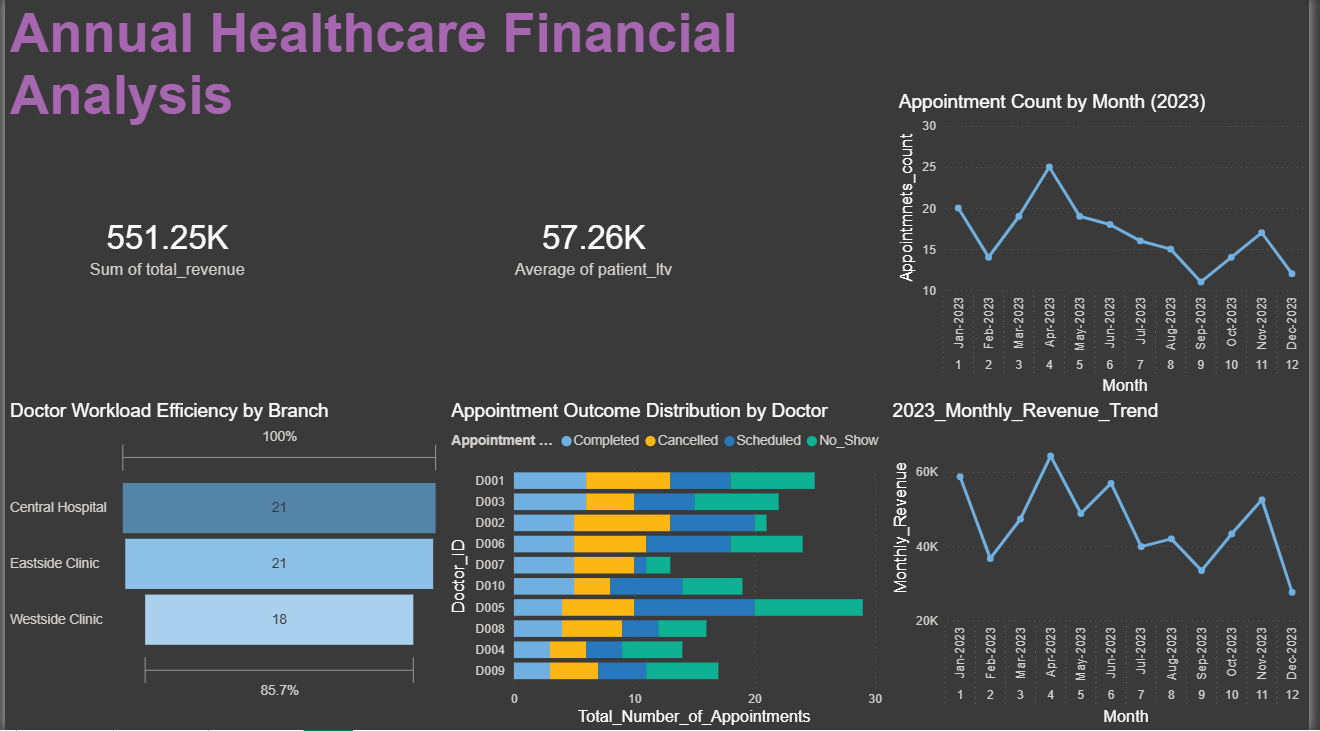

Layout of this report page (visuals, bound fields, positions):
{"tool":"powerbi","page":{"name":"Page 2","canvas":[1280,720],"ordinal":0},"visuals":[{"type":"barChart","title":"Appointment Outcome Distribution by Doctor","fields":{"Y":["Sum(Query13.completed_count)","Sum(Query13.cancelled_count)","Sum(Query13.scheduled_count)","Sum(Query13.no_show_count)"],"Category":["Doctor Cancellation & No-Show Analysis.doctor_id"]},"box":[432.9,395.6,432.9,324.7],"z":0},{"type":"funnel","title":"Doctor Workload Efficiency by Branch","fields":{"Y":["Sum(Query7.appointments_per_doctor)"],"Category":["Query7.hospital_branch"]},"box":[0,395.6,432.9,302.3],"z":1000},{"type":"lineChart","title":"2023_Monthly_Revenue_Trend","fields":{"Y":["Sum(Query6.round)"],"Category":["Calculate revenue by MONTH.month","Query6.year"]},"box":[865.8,395.6,414.2,324.7],"z":2000},{"type":"card","fields":{"Values":["Sum(Query3.total_revenue)"]},"box":[74.8,189,169.3,110.4],"z":3000},{"type":"lineChart","title":"Appointment Count by Month (2023)","fields":{"Category":["Query5.month","Monthly appointments count.year"],"Y":["Sum(Query5.count)"]},"box":[872,92.1,408,303.5],"z":4000},{"type":"card","fields":{"Values":["Avg(Query10.patient_ltv)"]},"box":[482.2,189,191.4,110.4],"z":5000},{"type":"textbox","box":[0,0,865.8,150.5],"z":5001}]}

Visuals, with their boxes in screenshot pixels (x1, y1, x2, y2), scaled from the page's 1280x720 canvas onto the 1320x731 screenshot:
"Appointment Outcome Distribution by Doctor" barChart: {"left": 446, "top": 402, "right": 893, "bottom": 730}
"Doctor Workload Efficiency by Branch" funnel: {"left": 0, "top": 402, "right": 446, "bottom": 709}
"2023_Monthly_Revenue_Trend" lineChart: {"left": 893, "top": 402, "right": 1319, "bottom": 730}
card - Sum(Query3.total_revenue): {"left": 77, "top": 192, "right": 252, "bottom": 304}
"Appointment Count by Month (2023)" lineChart: {"left": 899, "top": 94, "right": 1319, "bottom": 402}
card - Avg(Query10.patient_ltv): {"left": 497, "top": 192, "right": 695, "bottom": 304}
textbox: {"left": 0, "top": 0, "right": 893, "bottom": 153}
